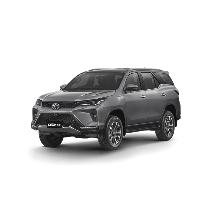NON-EV: (32, 66, 183, 152)
